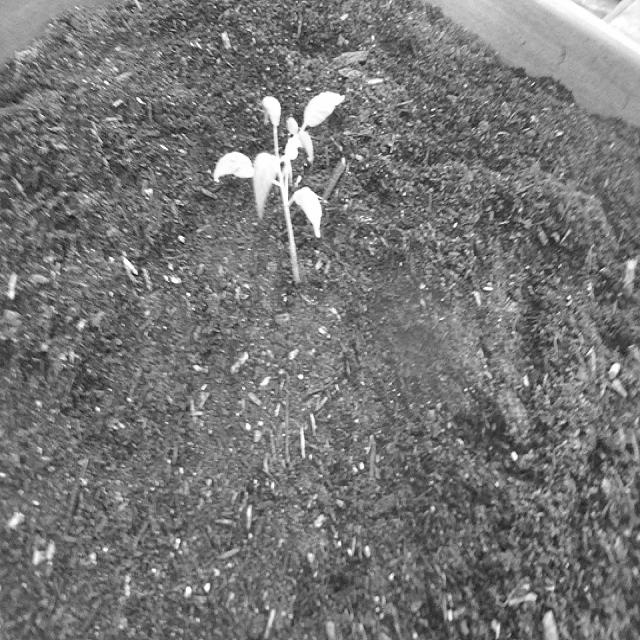Healthy: (213, 83, 348, 289)
